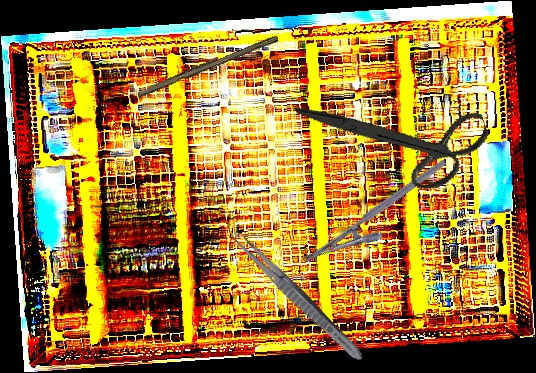Dressing Forceps: (227, 228, 369, 366)
Iris Scissors: (293, 48, 500, 224)
Needle Holder: (301, 158, 461, 283)
Scalpel Handle: (135, 30, 280, 101)
